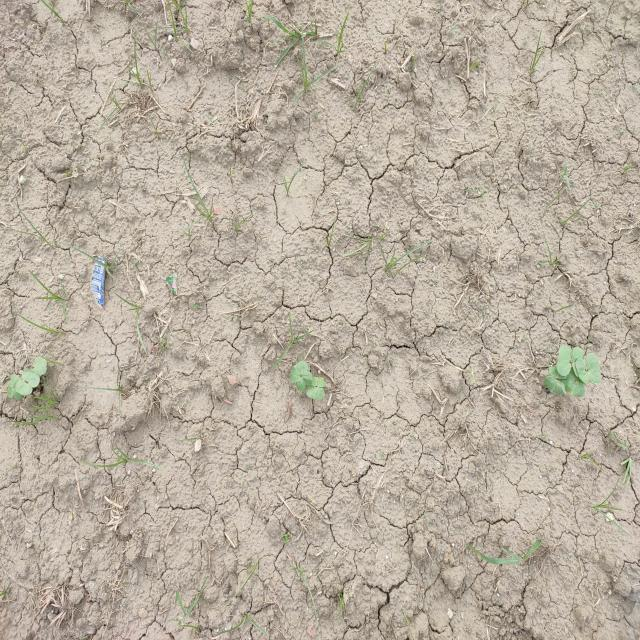seedling: (562, 374, 585, 397), (556, 345, 572, 376), (586, 353, 602, 384), (289, 360, 308, 383), (571, 347, 584, 377), (575, 358, 589, 384), (544, 376, 565, 393), (21, 369, 40, 387), (297, 371, 313, 391), (306, 385, 325, 400), (15, 381, 33, 396), (548, 366, 568, 379), (7, 374, 17, 398), (13, 378, 22, 400), (31, 365, 47, 377), (310, 377, 325, 387), (33, 358, 47, 368)
